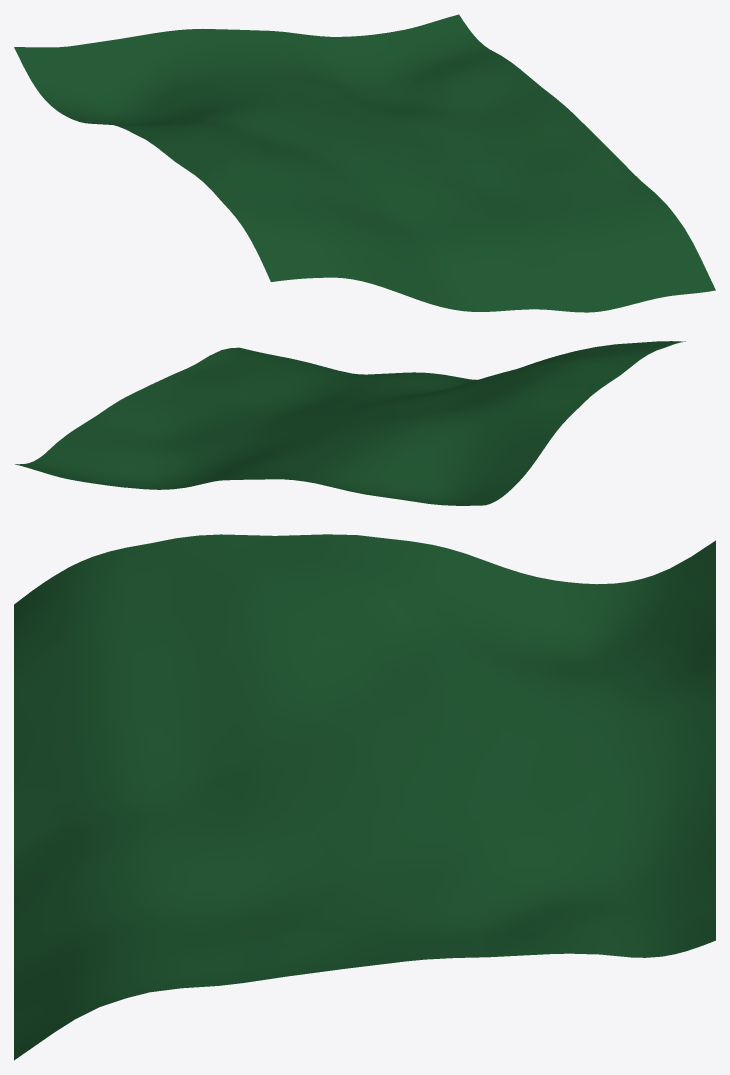
File: payo_land_xm3_y0_lod2.glb
3 renders of one model, top to bottom at view 1: azimuth 30°, elevation 25°; view 2: azimuth 150°, elevation 25°; view 3: azimuth 270°, elevation 25°, orthographic. The views are drawn at different scales.
Parts seen in each view (by area): view 1: payo_land_xm3_y0; view 2: payo_land_xm3_y0; view 3: payo_land_xm3_y0.
Part boxes in pixels (bbox=[...]): payo_land_xm3_y0: bbox=[14, 14, 715, 312]; payo_land_xm3_y0: bbox=[15, 341, 685, 505]; payo_land_xm3_y0: bbox=[14, 534, 715, 1060].
Size of the model in its own units: 255 by 92.05 by 255.
